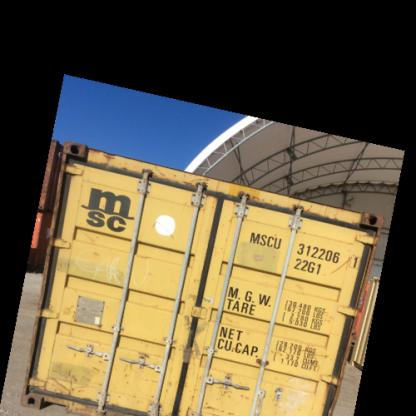Damage: (31, 367, 102, 400), (116, 352, 161, 384), (212, 374, 252, 406), (292, 338, 336, 364), (232, 185, 269, 206), (250, 347, 283, 370), (148, 217, 178, 242), (58, 298, 80, 332), (324, 247, 350, 275), (178, 171, 214, 190), (249, 245, 279, 267), (287, 198, 317, 217), (138, 163, 167, 182), (322, 204, 343, 222), (95, 147, 115, 164), (131, 251, 155, 264), (222, 310, 238, 329), (84, 249, 102, 262), (120, 162, 132, 174)
